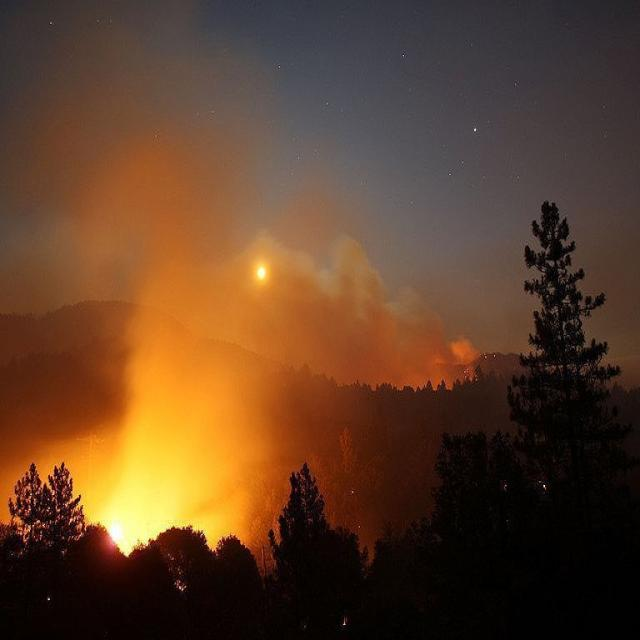Smoke: (2, 18, 457, 532)
